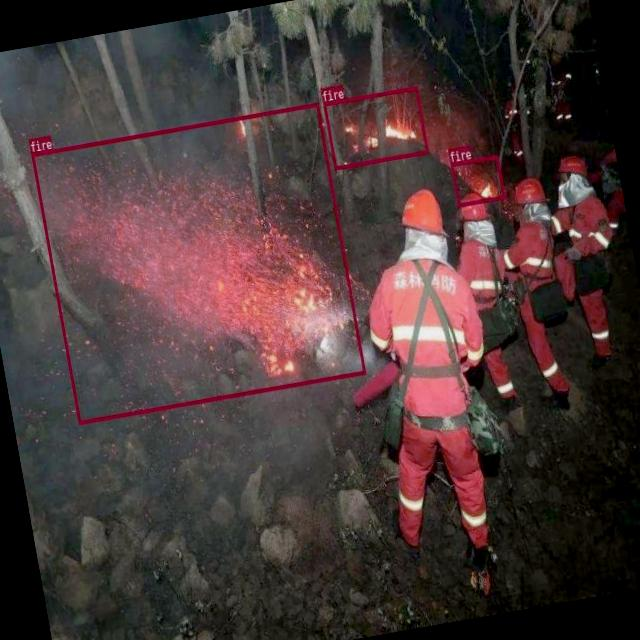fire: (30, 101, 365, 424), (323, 85, 428, 168), (450, 154, 504, 206)
